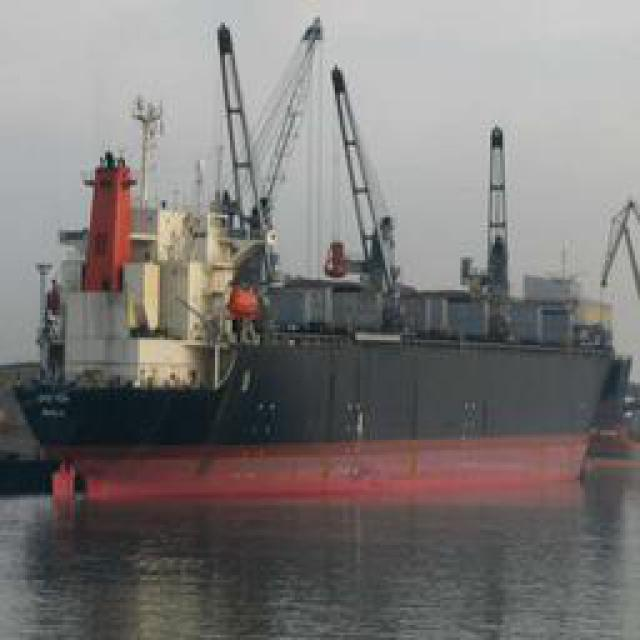Ship: (21, 15, 629, 520)
